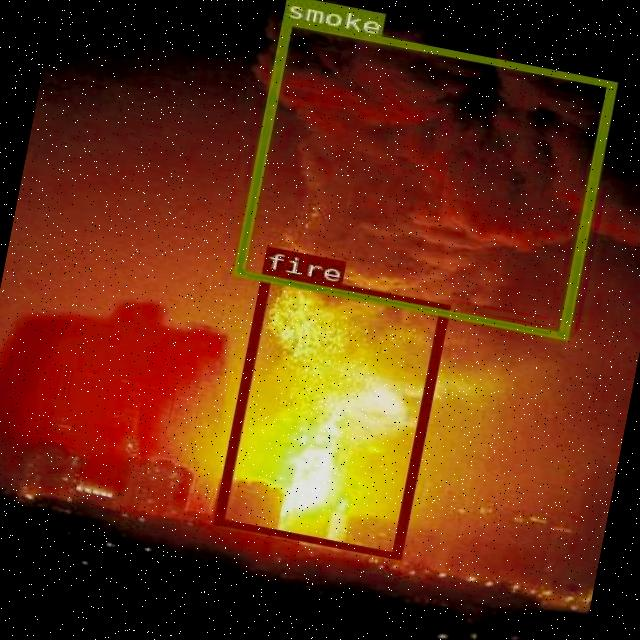fire: (213, 267, 448, 558)
smoke: (232, 16, 615, 338)
